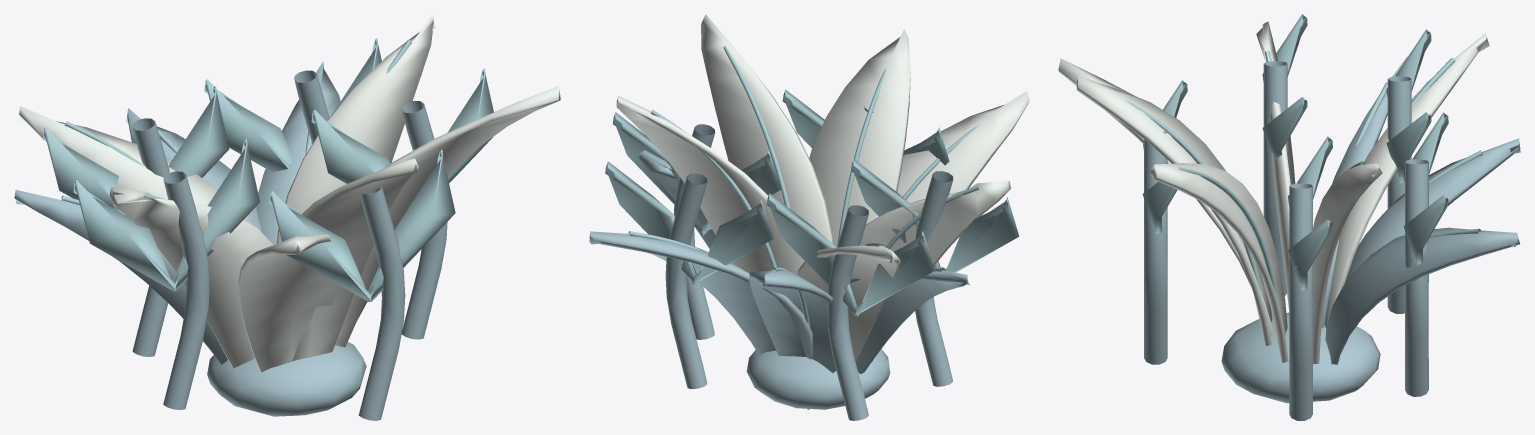
Rendered from bio_mist_leaf_12_far.glb.
The picture shows the model from 3 angles, left to right: view 1: azimuth 30°, elevation 25°; view 2: azimuth 150°, elevation 25°; view 3: azimuth 270°, elevation 25°; orthographic projection. The views are drawn at different scales.
Parts seen in each view (by area): view 1: Cupped condensate leaf.007, Cupped condensate leaf.008, Cupped condensate leaf.004, Root rosette, Secondary fan lobe.008, Secondary fan lobe.004, Cupped condensate leaf.002, Cupped condensate leaf.005, Branching support.004, Branching support.002, Secondary fan lobe.002, Cupped condensate leaf.001 (+8 smaller); view 2: Cupped condensate leaf.002, Cupped condensate leaf.005, Cupped condensate leaf.008, Cupped condensate leaf.003, Cupped condensate leaf.007, Root rosette, Secondary fan lobe.006, Secondary fan lobe.002, Cupped condensate leaf.006, Branching support.001, Cupped condensate leaf.004, Branching support.003 (+13 smaller); view 3: Cupped condensate leaf.003, Root rosette, Cupped condensate leaf.005, Cupped condensate leaf.002, Cupped condensate leaf.001, Branching support, Branching support.003, Branching support.002, Cupped condensate leaf.006, Cupped condensate leaf.008, Branching support.004, Cupped condensate leaf.004 (+10 smaller).
Boxes of the visible parts, x1,y1,x2,y2 form: Cupped condensate leaf.007: (238,234,337,372); Cupped condensate leaf.008: (276,14,435,243); Cupped condensate leaf.004: (109,187,273,368); Root rosette: (207,342,366,416); Secondary fan lobe.008: (73,138,259,291); Secondary fan lobe.004: (269,149,455,302); Cupped condensate leaf.002: (292,158,418,361); Cupped condensate leaf.005: (335,86,560,347); Branching support.004: (163,171,209,409); Branching support.002: (358,185,405,420); Secondary fan lobe.002: (42,86,229,207); Cupped condensate leaf.001: (19,106,251,224); Cupped condensate leaf.002: (809,29,910,247); Cupped condensate leaf.005: (701,14,833,244); Cupped condensate leaf.008: (616,96,804,274); Cupped condensate leaf.003: (589,231,812,359); Cupped condensate leaf.007: (897,91,1029,203); Root rosette: (746,349,890,409); Secondary fan lobe.006: (605,161,773,284); Secondary fan lobe.002: (766,193,934,316); Cupped condensate leaf.006: (749,270,836,409); Branching support.001: (827,205,868,420); Cupped condensate leaf.004: (860,180,1011,361); Branching support.003: (665,173,707,388); Cupped condensate leaf.003: (1325,227,1519,364); Root rosette: (1221,312,1380,403); Cupped condensate leaf.005: (1149,163,1288,362); Cupped condensate leaf.002: (1076,76,1272,346); Cupped condensate leaf.001: (1324,33,1489,327); Branching support: (1289,183,1312,420); Branching support.003: (1405,159,1428,396); Branching support.002: (1144,130,1167,364); Cupped condensate leaf.006: (1344,138,1520,283); Cupped condensate leaf.008: (1313,163,1382,401); Branching support.004: (1263,61,1287,295); Cupped condensate leaf.004: (1256,21,1295,310).
Bounding box in the file's own units: 1.88 × 1.34 × 1.74.
